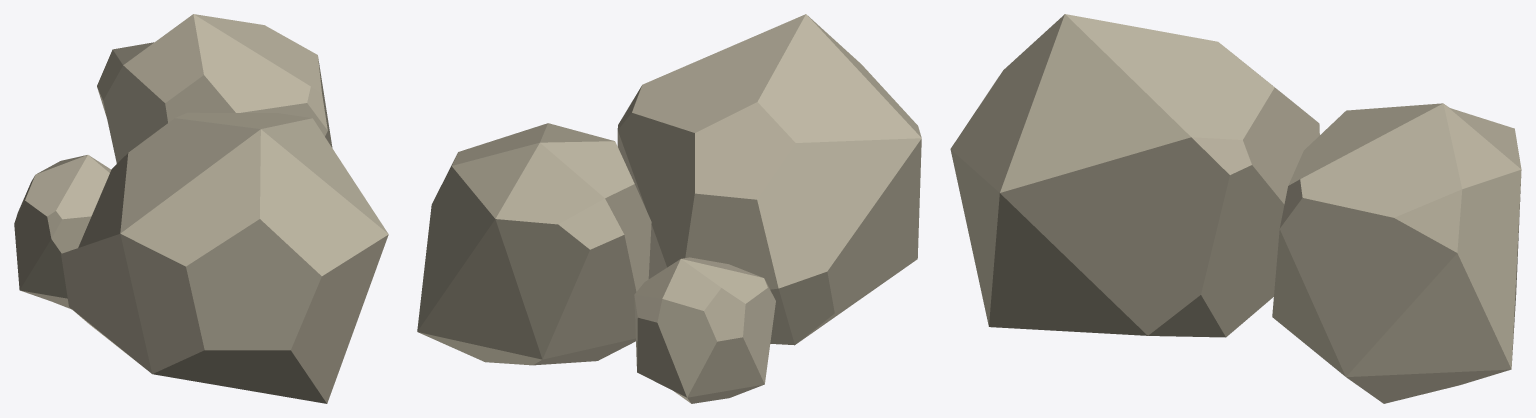
Rendered from STONE #3.fbx.
3 views of the same model, side by side, from view 1: azimuth 30°, elevation 25°; view 2: azimuth 150°, elevation 25°; view 3: azimuth 270°, elevation 25° (orthographic). The views are drawn at different scales.
Visible parts, largest first — view 1: Icosphere.002, Icosphere.001, Icosphere; view 2: Icosphere.002, Icosphere.001, Icosphere; view 3: Icosphere.002, Icosphere.001.
Boxes of the visible parts, bbox=[...] form: Icosphere.002: bbox=[61, 112, 388, 403]; Icosphere.001: bbox=[97, 14, 332, 163]; Icosphere: bbox=[14, 155, 111, 309]; Icosphere.002: bbox=[617, 14, 921, 345]; Icosphere.001: bbox=[417, 123, 651, 365]; Icosphere: bbox=[634, 257, 775, 403]; Icosphere.002: bbox=[950, 14, 1319, 337]; Icosphere.001: bbox=[1272, 103, 1521, 403].
Bounding box in the file's own units: 567 × 440 × 741.
